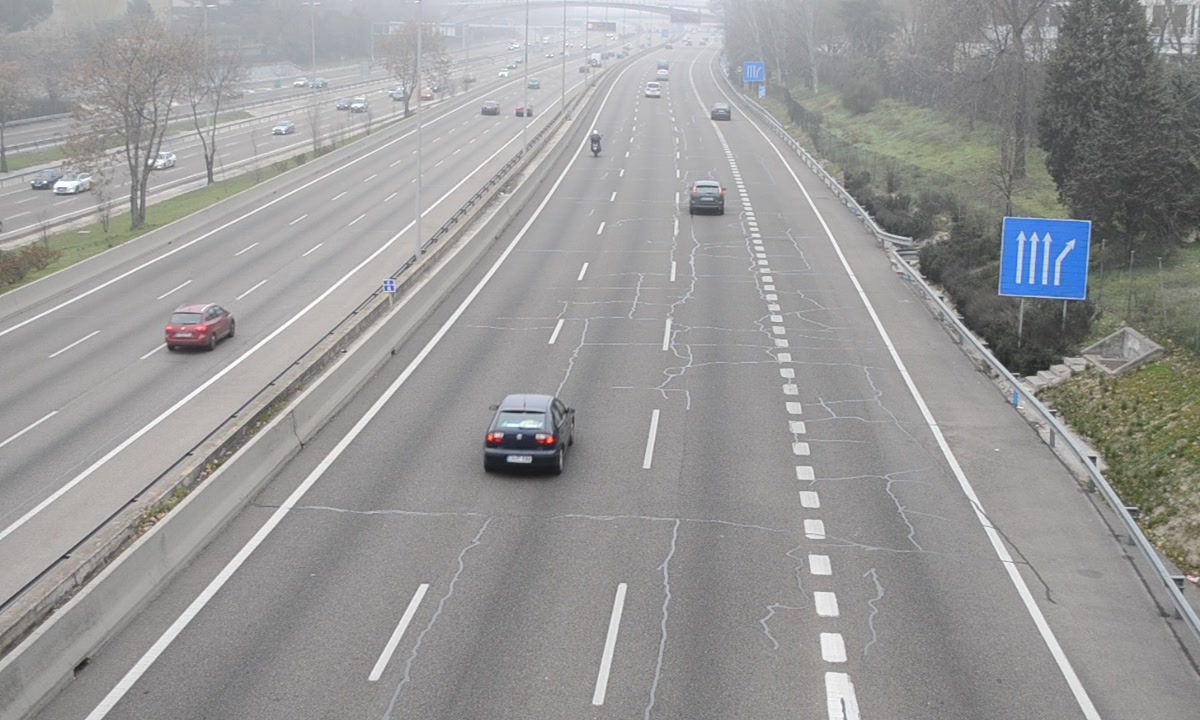car: (485, 392, 575, 476), (687, 180, 725, 215), (710, 103, 731, 121)
motorcycle: (588, 130, 601, 162)
